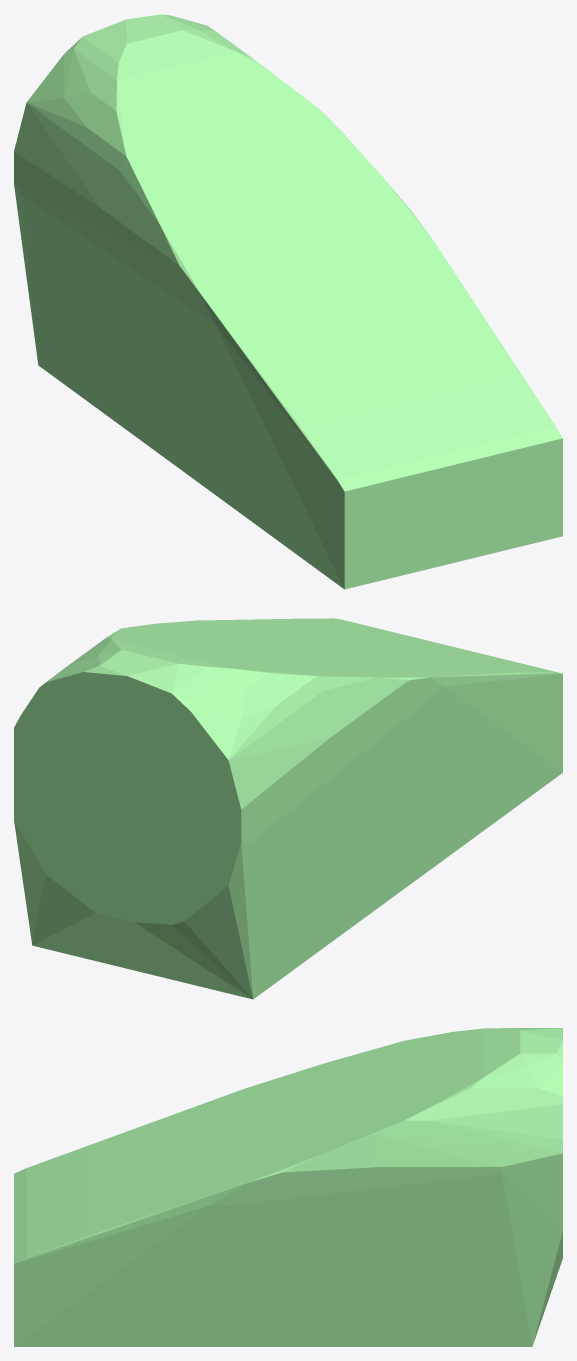
The model's file is dvkr_robot_C_link1_respondable_coll_1.dae.
3 renders of one model, top to bottom at view 1: azimuth 30°, elevation 25°; view 2: azimuth 150°, elevation 25°; view 3: azimuth 270°, elevation 25°, orthographic. The views are drawn at different scales.
Visible parts, largest first — view 1: Node_0000023514CD84E0; view 2: Node_0000023514CD84E0; view 3: Node_0000023514CD84E0.
Part boxes in pixels (x1,y1,x2,y2): Node_0000023514CD84E0: (14,14,562,589); Node_0000023514CD84E0: (14,618,562,999); Node_0000023514CD84E0: (14,1028,562,1346).
Size of the model in its own units: 0.1434 by 0.1822 by 0.3489.
